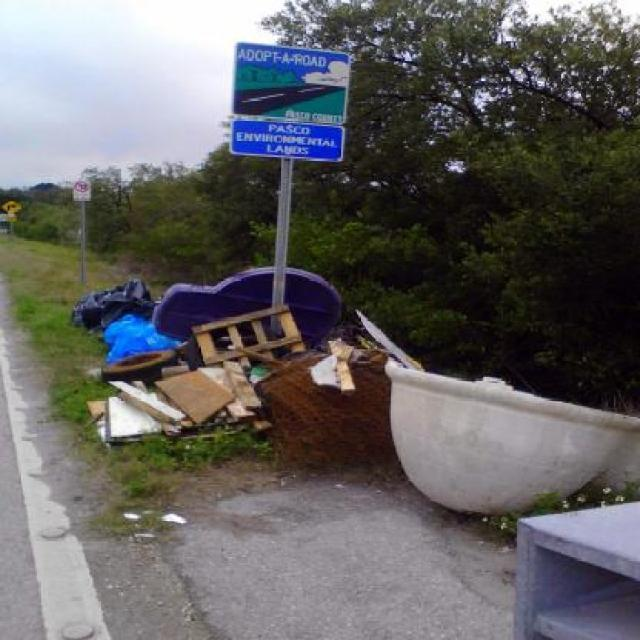garbage: (96, 283, 360, 454)
